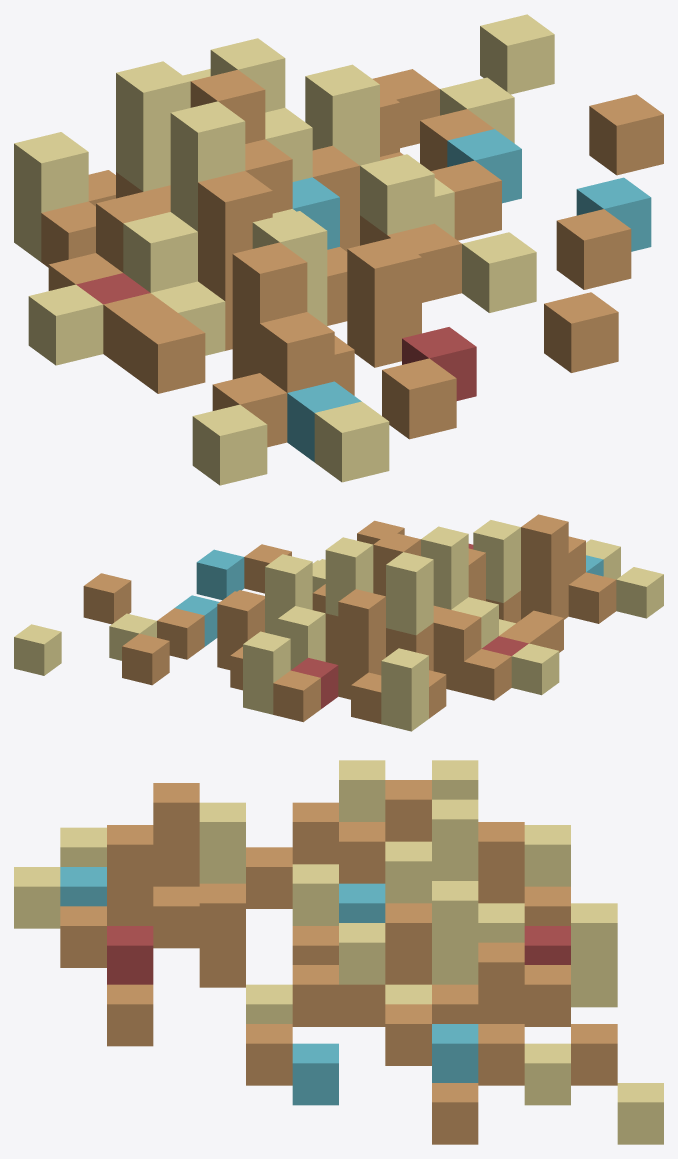
File: CC-29 Palette.url.obj
3 views of the same model, one above another, from view 1: azimuth 30°, elevation 25°; view 2: azimuth 150°, elevation 25°; view 3: azimuth 270°, elevation 25° (orthographic). The views are drawn at different scales.
Size of the model in its own units: 1.4 by 0.4 by 1.4.
1 material, 1 textured.
